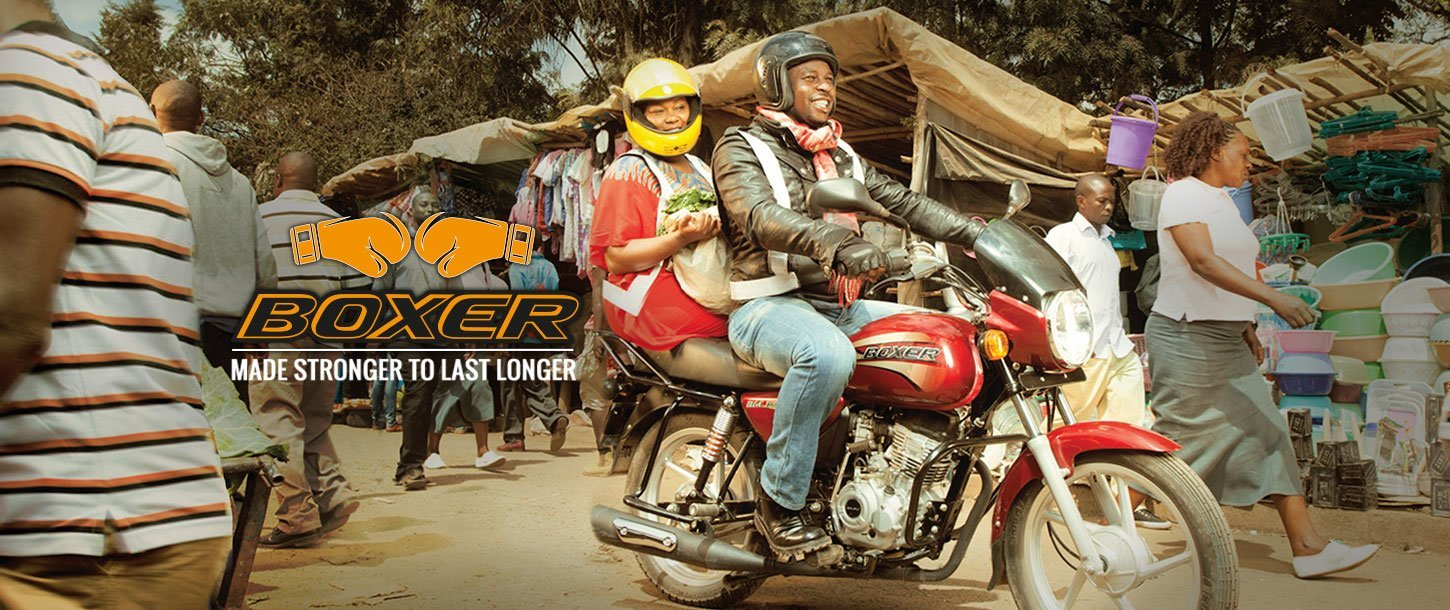motorbike: (589, 189, 1263, 610)
